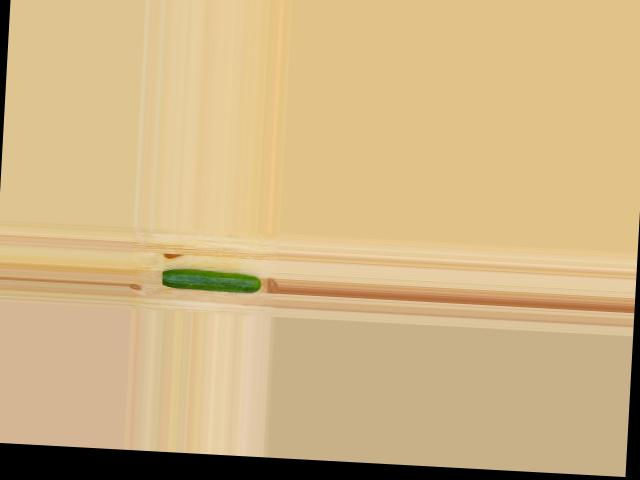cucumber: (162, 268, 261, 293)
